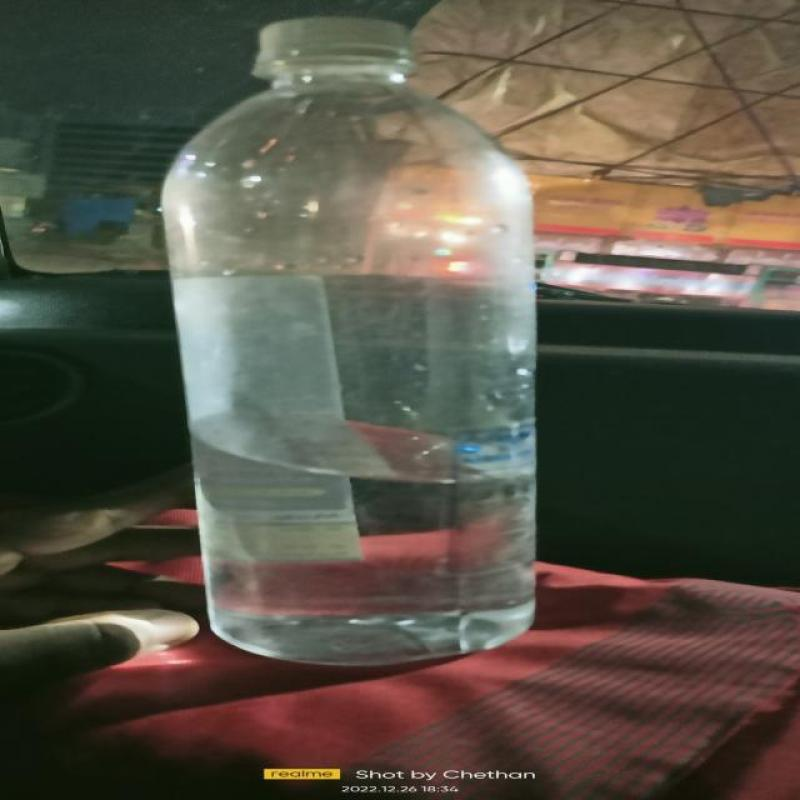botella: (152, 13, 574, 677)
